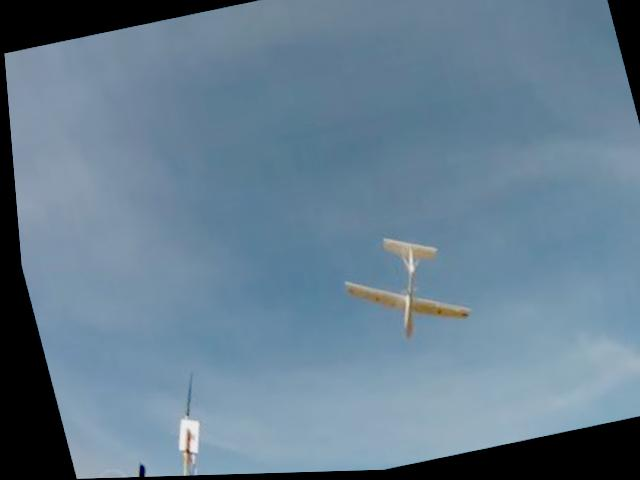uav: (317, 214, 481, 364)
